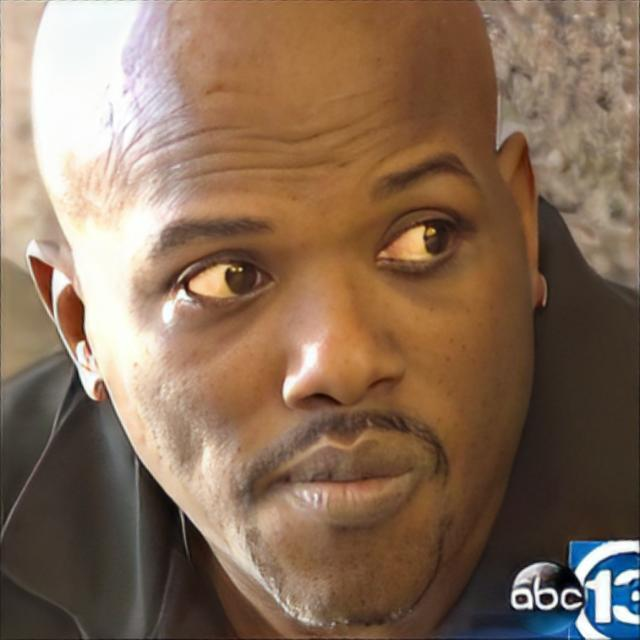surprise: (31, 0, 535, 631)
